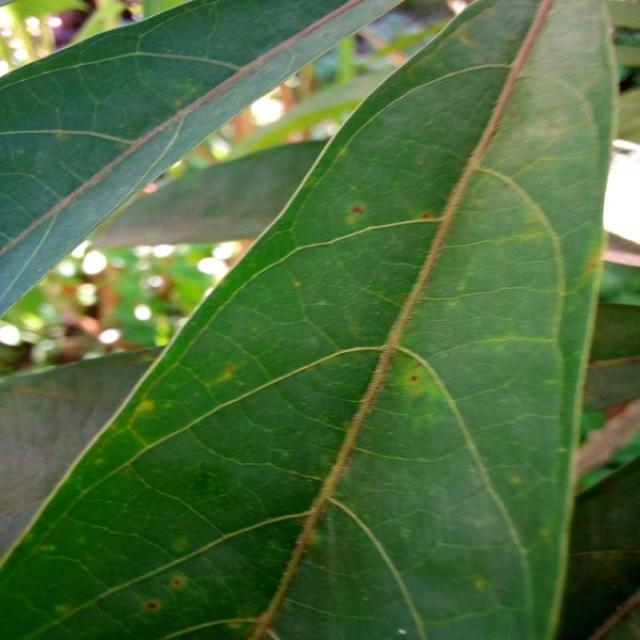cassava leaf: (1, 0, 620, 638)
